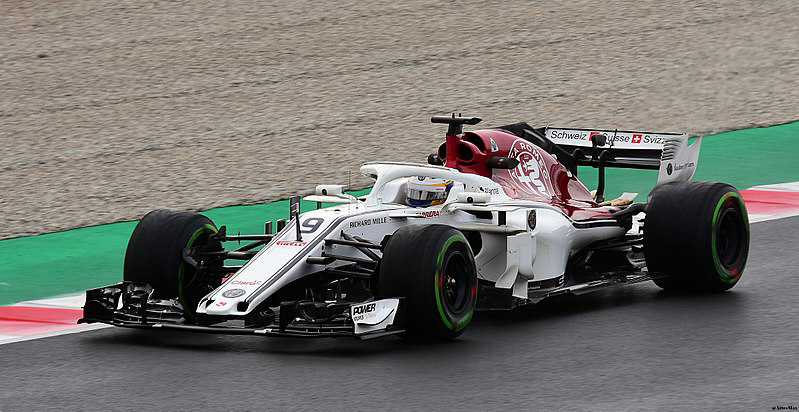F1 Car: (74, 106, 757, 357)
